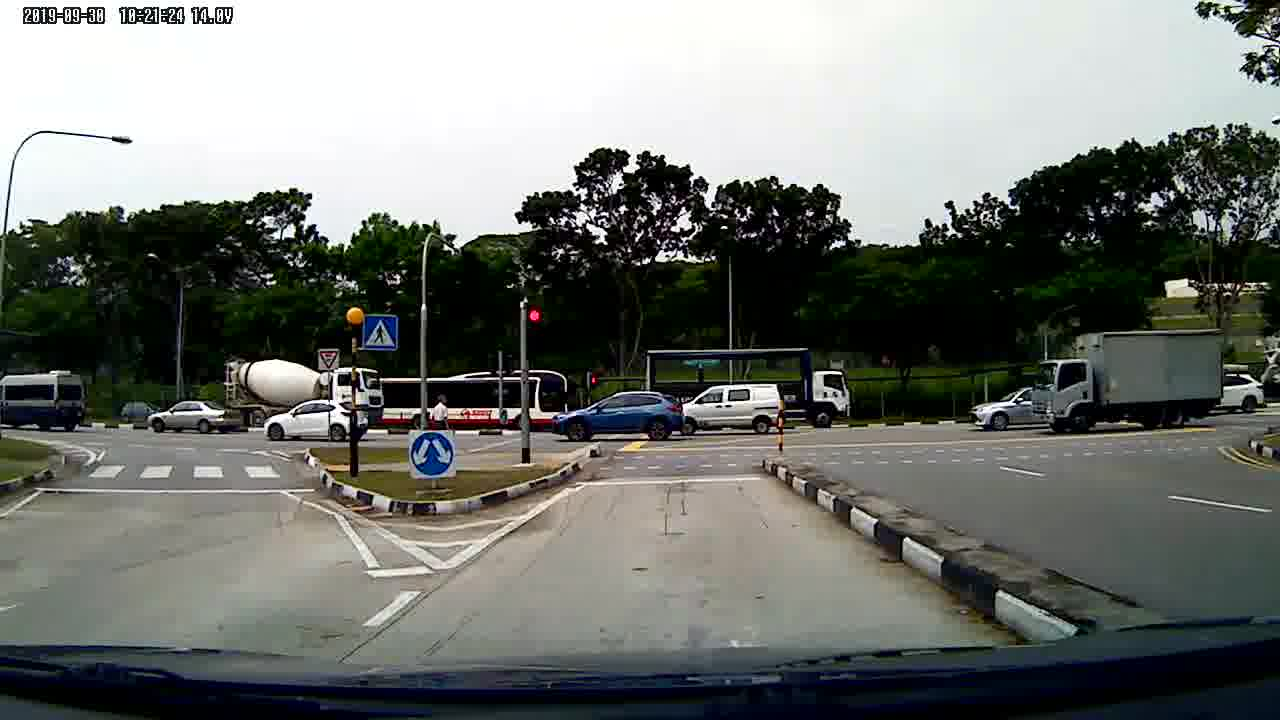bus: (383, 369, 576, 434)
car: (551, 394, 689, 444), (263, 400, 373, 443), (146, 400, 242, 439), (973, 385, 1034, 436)
